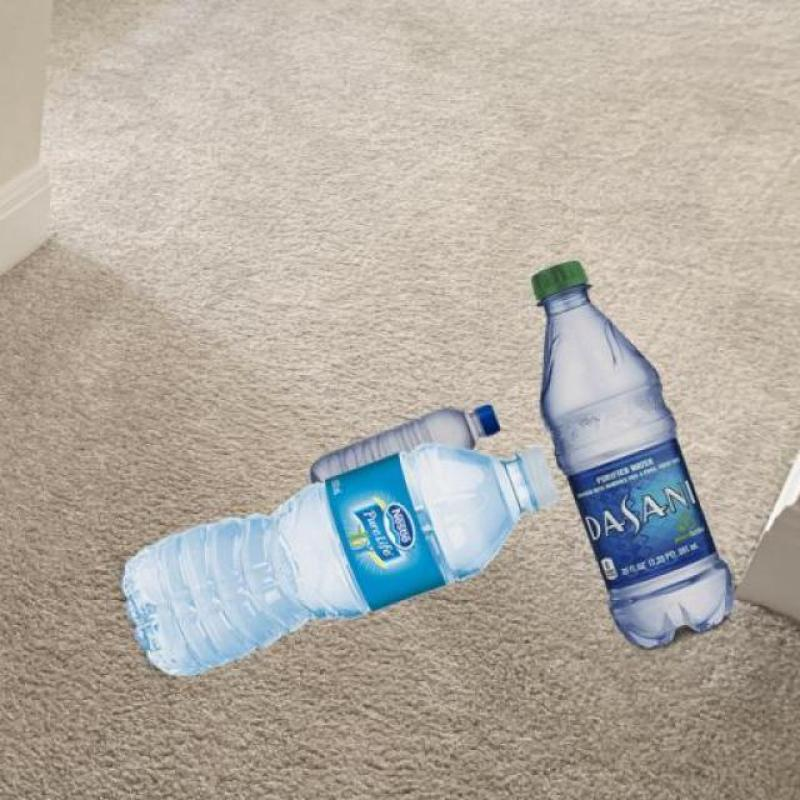botella: (124, 440, 556, 680), (529, 260, 736, 648), (310, 406, 500, 482)
